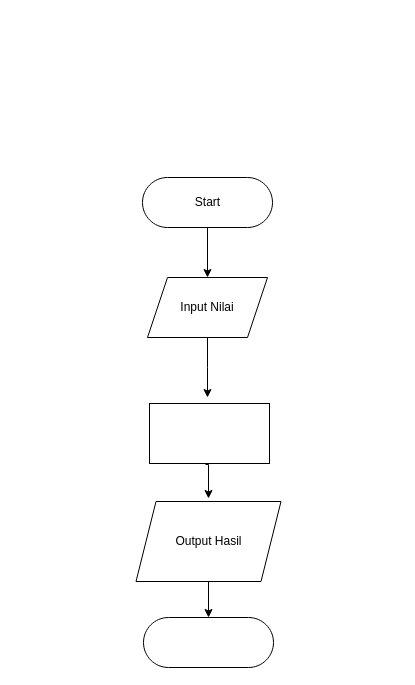
The diagram is 415 pixels wide and 685 high, and some of its shapes have lost their labels. Each missing label, with the box of its shape:
End: (142, 616, 274, 668)
L = 6 * s * s: (148, 402, 270, 464)
